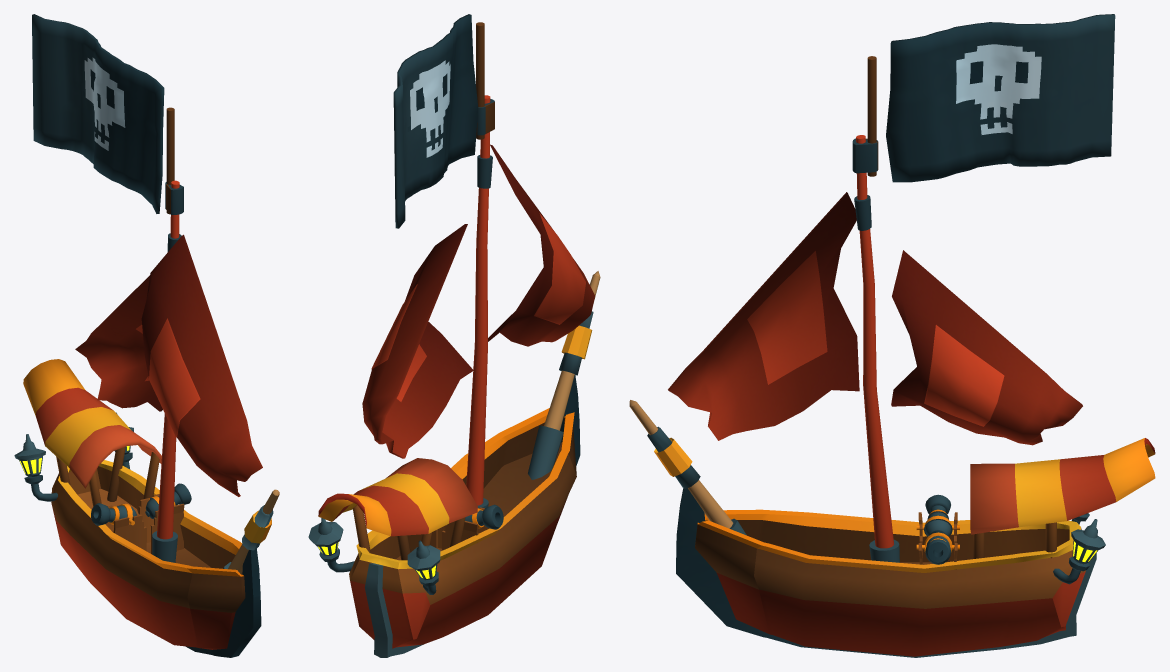
File: sloop.glb
3 views of the same model, side by side, from view 1: azimuth 30°, elevation 25°; view 2: azimuth 150°, elevation 25°; view 3: azimuth 270°, elevation 25° (orthographic). The views are drawn at different scales.
Visible parts, largest first — view 1: sloop_hull, flag_sloop, headsail, cabin, mainsail, sloop_cannon, main_sloop_mast, cabin_tarp_supports, bowsprit_sloop, falg_pole, back_sloop_lamp_R; view 2: sloop_hull, mainsail, flag_sloop, cabin, headsail, main_sloop_mast, bowsprit_sloop, sloop_cannon, falg_pole, back_sloop_lamp_L, back_sloop_lamp_R, cabin_tarp_supports; view 3: sloop_hull, flag_sloop, headsail, mainsail, cabin, main_sloop_mast, bowsprit_sloop, sloop_cannon, falg_pole, back_sloop_lamp_L.
Part boxes in pixels (x1,y1,x2,y2): sloop_hull: (51,460,261,657); flag_sloop: (32,14,164,213); headsail: (141,234,262,496); cabin: (23,359,161,488); mainsail: (75,275,162,411); sloop_cannon: (91,483,191,554); main_sloop_mast: (152,180,181,562); cabin_tarp_supports: (56,446,159,506); bowsprit_sloop: (223,489,279,574); falg_pole: (165,107,183,214); back_sloop_lamp_R: (14,434,57,501); sloop_hull: (349,375,580,657); mainsail: (362,224,473,458); flag_sloop: (393,14,478,228); cabin: (318,458,477,536); headsail: (488,144,594,346); main_sloop_mast: (466,95,492,508); bowsprit_sloop: (528,271,600,479); sloop_cannon: (407,504,503,551); falg_pole: (476,22,494,139); back_sloop_lamp_L: (308,518,354,572); back_sloop_lamp_R: (407,540,440,594); cabin_tarp_supports: (352,505,465,560); sloop_hull: (676,488,1096,657); flag_sloop: (886,14,1115,182); headsail: (668,192,859,440); mainsail: (891,250,1082,445); cabin: (970,438,1155,534); main_sloop_mast: (854,135,899,562); bowsprit_sloop: (629,400,746,535); sloop_cannon: (916,494,959,569); falg_pole: (852,56,878,176); back_sloop_lamp_L: (1053,519,1105,584).
Bounding box in the file's own units: 4.21 × 19.05 × 14.5.
2 materials, 1 textured.
